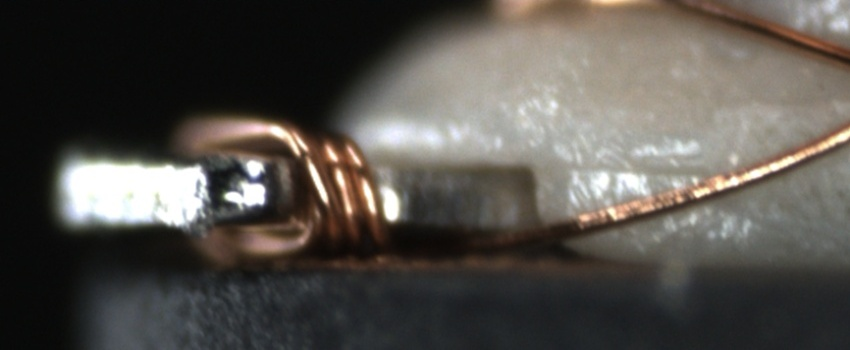DL: (554, 88, 850, 124), (564, 134, 712, 200)
TE: (171, 109, 398, 255)
